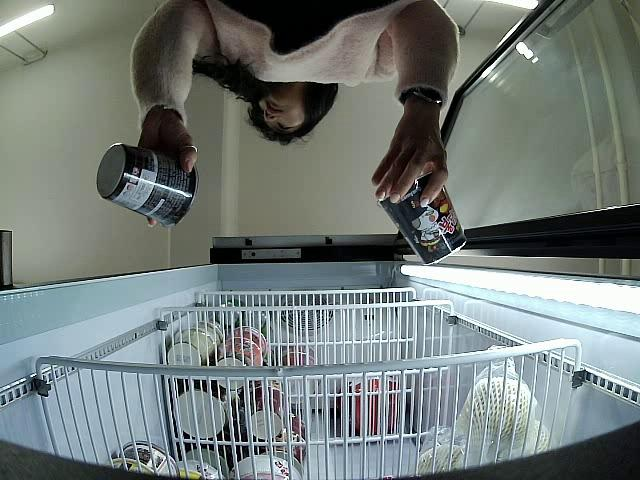00_hand: (370, 111, 450, 208), (138, 122, 197, 230)
08_buldak_S: (96, 143, 199, 227), (382, 177, 466, 266)
